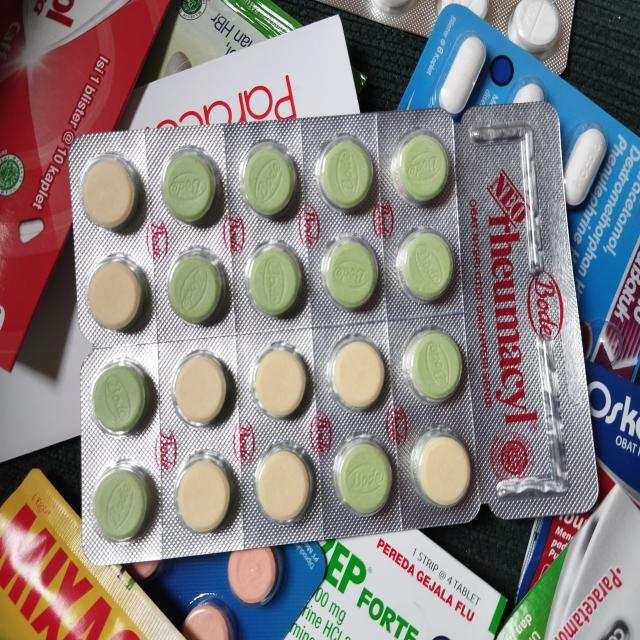B3: (68, 105, 600, 571), (393, 2, 640, 382), (0, 0, 170, 373), (0, 467, 189, 640), (279, 527, 508, 640), (491, 479, 640, 640)
